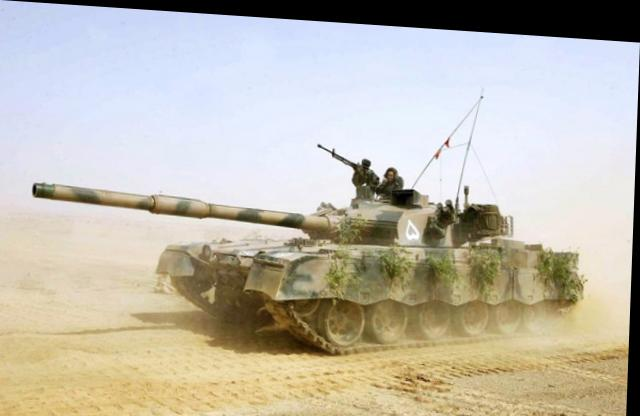tank: (157, 150, 583, 371)
